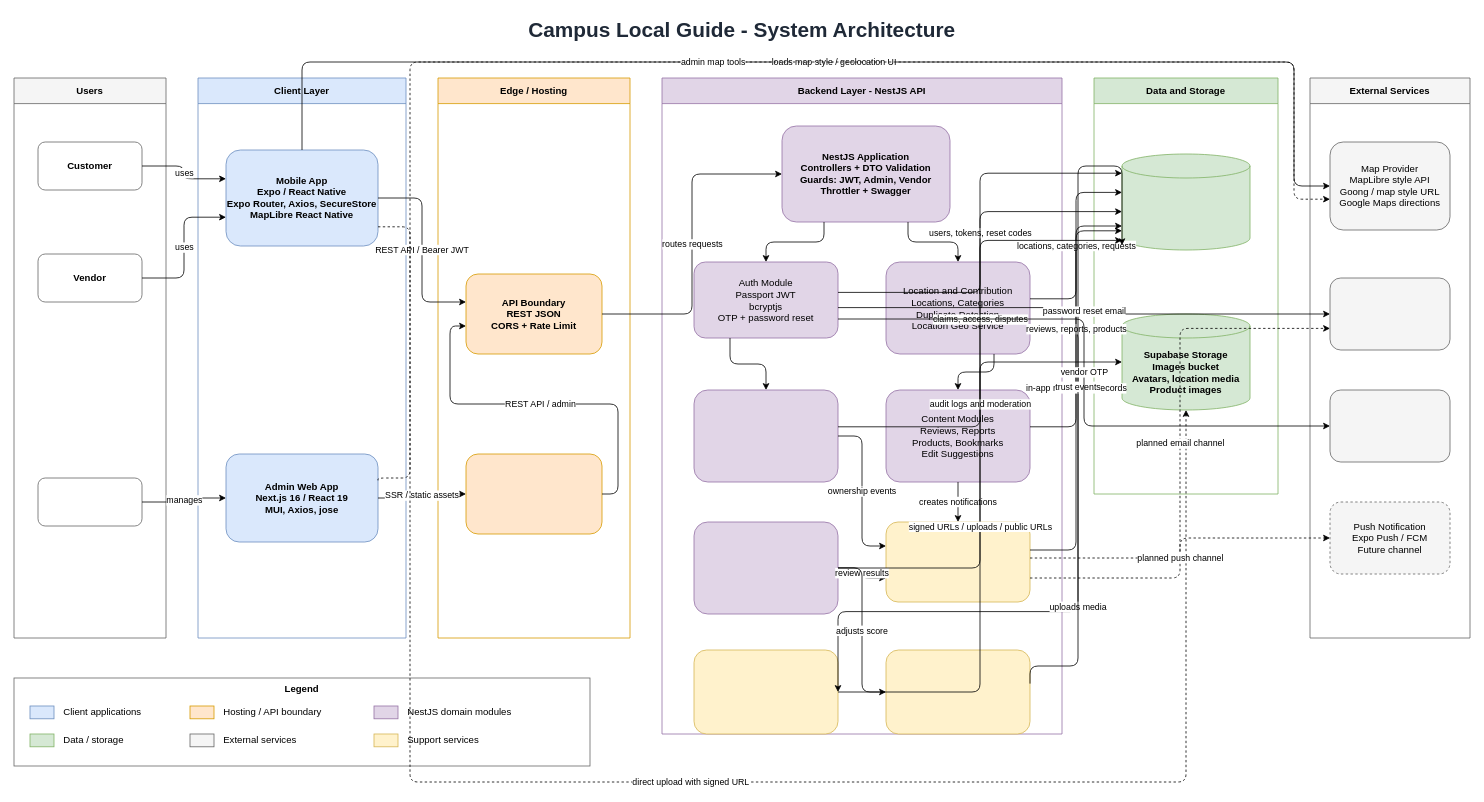
Some shapes in this 1484 by 802 pixel diagram are drawn without their labels. Each missing label, with the centre of its shape:
"Admin" belongs at point 89,501.
"Admin Modules Dashboard, Users Location Review Claims, Reports, Audit Logs" belongs at point 765,567.
"Email Service Resend Password reset code" belongs at point 1389,313.
"Images Service Multer validation Signed upload URL Media cleanup" belongs at point 765,691.
"MongoDB Mongoose ODM Users, Locations, Requests Reviews, Reports, Notifications" belongs at point 1185,201.
"Notification Service In-app notifications NotificationPort" belongs at point 957,561.
"SMS Service eSMS.vn Vendor OTP" belongs at point 1389,425.
"Trust Engine Trust score and level NEW / TRUSTED / RESTRICTED / BANNED" belongs at point 957,691.
"Vendor and Ownership Vendor Locations Claims, Request Access Appeals, Disputes" belongs at point 765,435.
"Vercel Web hosting + SSR Next.js runtime" belongs at point 533,493.
